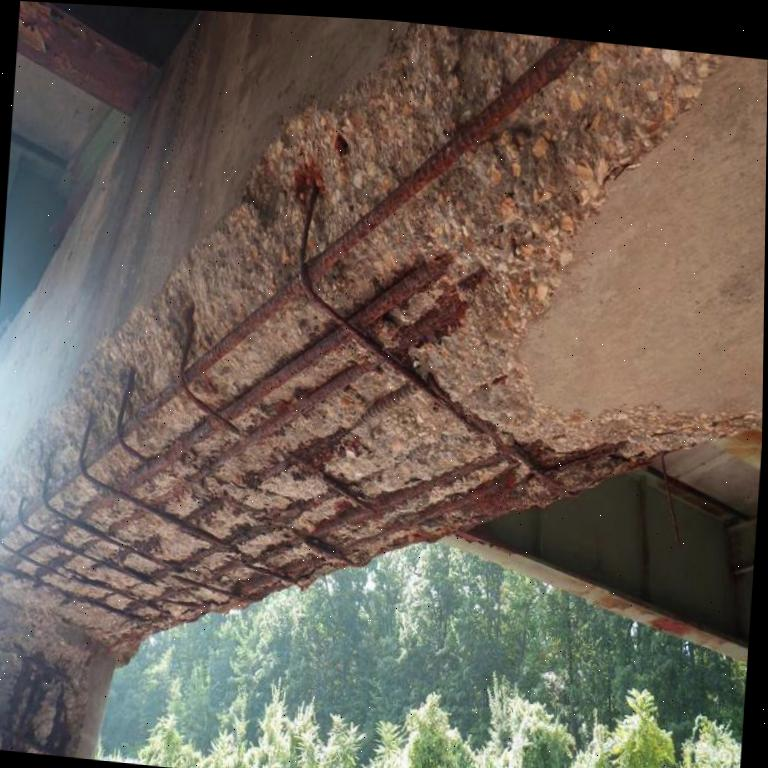spalling: (0, 22, 762, 751)
